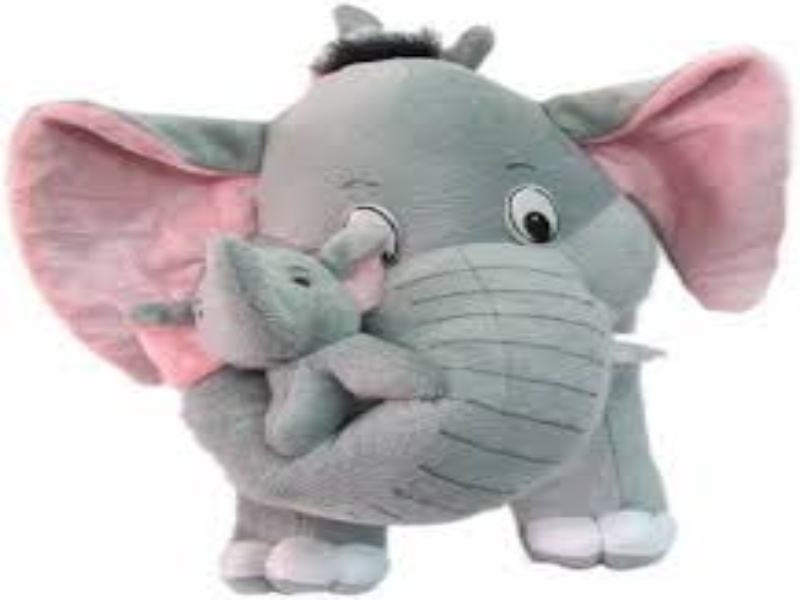elephant: (7, 33, 770, 569)
